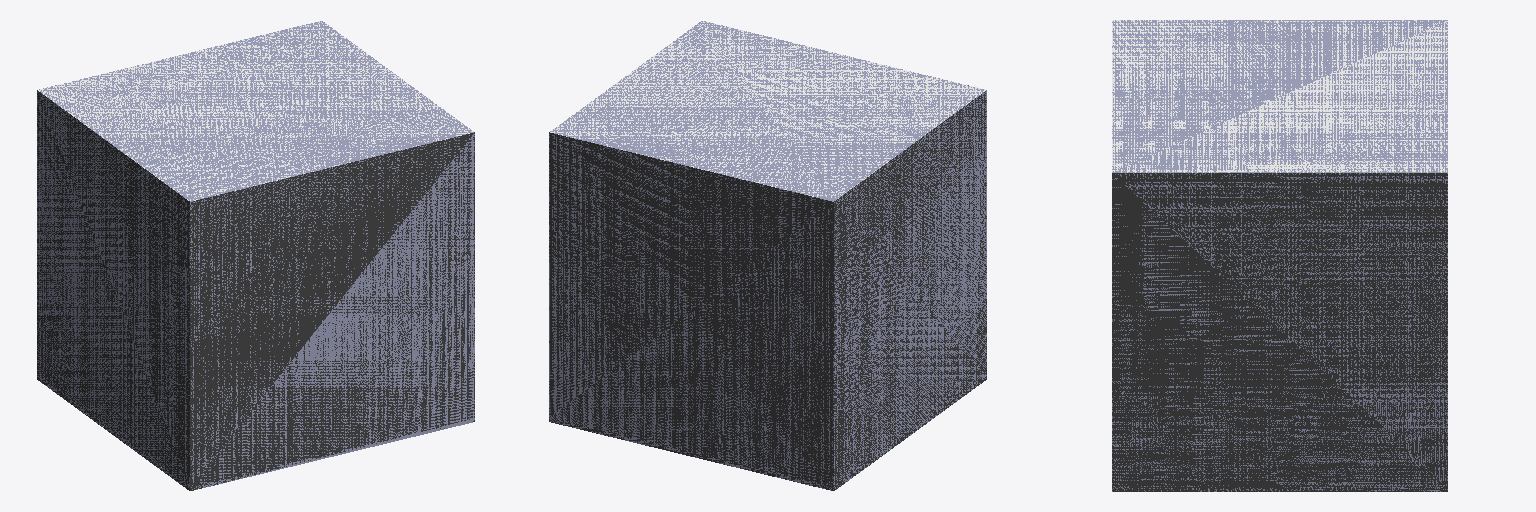
The robot description file, URDF, robot "right-pull-door":
<?xml version="1.0" ?>
<robot name="right-pull-door">
	<link name="base"/>
	<link name="link_0">
		<visual name="out-frame">
			<origin xyz="0 0 0"/>
			<geometry>
				<mesh filename="texture_dae/frame.dae" scale="1.4 1.4 1.4"/>
			</geometry>
		</visual>
		<collision>
			<origin xyz="0 0 0"/>
			<geometry>
				<mesh filename="texture_dae/frame.dae" scale="1.4 1.4 1.4"/>
			</geometry>
		</collision>
	</link>
	<joint name="joint_0" type="fixed">
		<origin rpy="1.570796326794897 0 -1.570796326794897" xyz="0 0 0"/>
		<child link="link_0"/>
		<parent link="base"/>
	</joint>
	<link name="link_1">
		<visual name="surf-board">
			<origin xyz="0.2539410412253346 0 0"/>
			<geometry>
				<mesh filename="texture_dae/board.dae" scale="1.4 1.4 1.4"/>
			</geometry>
		</visual>
		<collision>
			<origin xyz="0.2539410412253346 0 0"/>
			<geometry>
				<mesh filename="texture_dae/board.dae" scale="1.4 1.4 1.4"/>
			</geometry>
		</collision>
	</link>
	<joint name="joint_1" type="revolute">
		<origin xyz="-0.2539410412253346 0 0"/>
		<axis xyz="0 -1 0"/>
		<child link="link_1"/>
		<parent link="link_0"/>
		<limit lower="0" upper="1.5079644737231006"/>
	</joint>
	<link name="link_2">
		<visual name="handle">
			<origin xyz="0 0 0"/>
			<geometry>
				<mesh filename="texture_dae/9961234.dae" scale="0.008 0.008 0.008"/>
			</geometry>
		</visual>
		<collision>
			<origin xyz="0 0 0"/>
			<geometry>
				<mesh filename="texture_dae/9961234.dae" scale="0.008 0.008 0.008"/>
			</geometry>
		</collision>
	</link>
	<joint name="joint_2" type="revolute">
		<origin xyz="0.2539410412253346 0 0.00058461978068226"/>
		<child link="link_2"/>
		<parent link="link_1"/>
		<axis xyz="0 0 1"/>
		<limit lower="0" upper="1.5079644737231006"/>
	</joint>
</robot>

--- Render facts (derived) ---
The picture shows the robot from 3 angles, left to right: view 1: azimuth 30°, elevation 25°; view 2: azimuth 150°, elevation 25°; view 3: azimuth 270°, elevation 25°; orthographic projection.
Robot: right-pull-door — 4 links, 3 joints (2 revolute, 1 fixed); root link base; default pose: every joint at zero.
Visible links, largest first — view 1: link_0; view 2: link_0; view 3: link_0.
Link boxes in pixels (x1=…): link_0: x1=37, y1=21, x2=474, y2=490; link_0: x1=549, y1=21, x2=986, y2=490; link_0: x1=1112, y1=20, x2=1447, y2=491.
Size in the robot's own frame: 0.6312 by 0.5867 by 0.6715 metres.
Meshes: 3 distinct files referenced, 3 mesh visuals loaded (3 Collada DAE).
